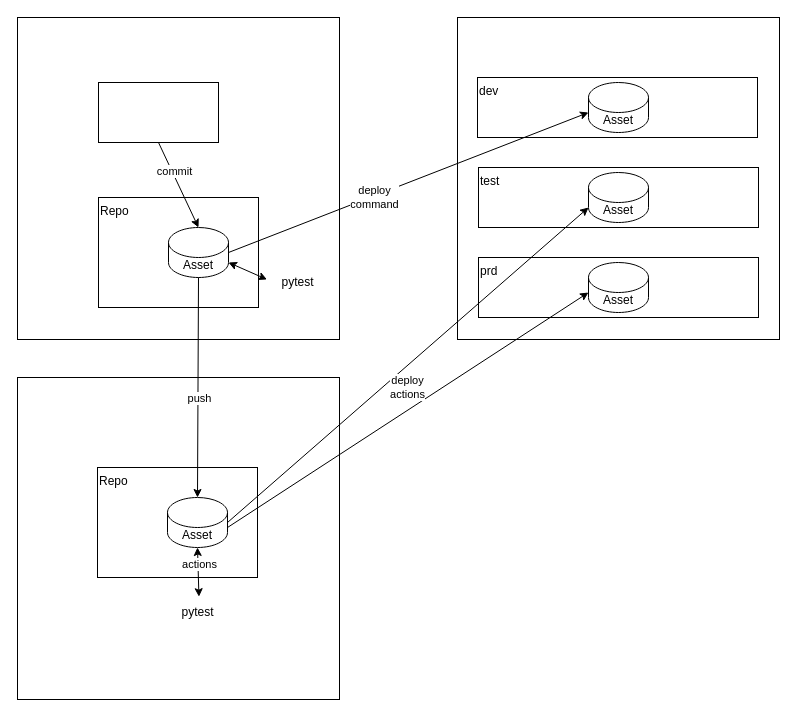
Some shapes in this 797 by 717 pixel diagram are drawn without their labels. The shapes that lost their labels are listed below. From the top down, each one's box as (x1, y1, x2, y2) in pixels, then its label:
(98, 82, 218, 142): VsCode
(16, 16, 340, 340): Local
(456, 16, 780, 340): Databricks
(16, 376, 340, 700): Github
